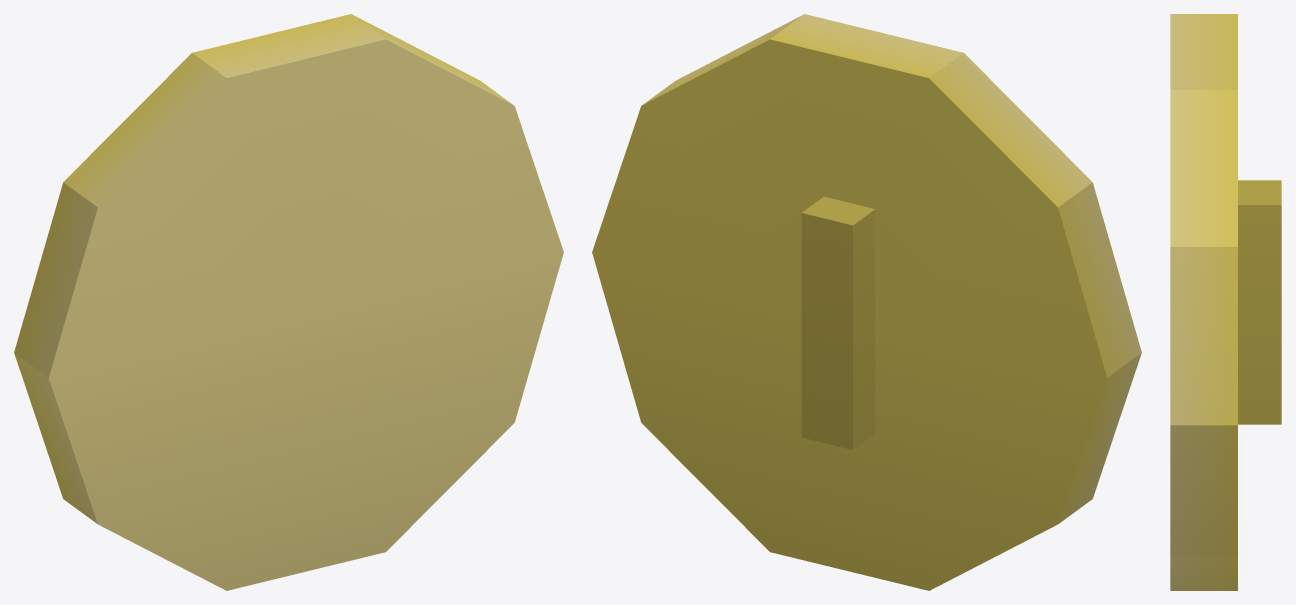
File: coin.glb
The picture shows the model from 3 angles, left to right: view 1: azimuth 30°, elevation 25°; view 2: azimuth 150°, elevation 25°; view 3: azimuth 270°, elevation 25°; orthographic projection. The views are drawn at different scales.
Visible parts, largest first — view 1: coin; view 2: coin; view 3: coin.
Boxes of the visible parts, x1,y1,x2,y2 form: coin: (14, 14, 563, 590); coin: (592, 14, 1141, 590); coin: (1170, 14, 1281, 590).
Size of the model in its own units: 0.6 by 0.5706 by 0.115.
